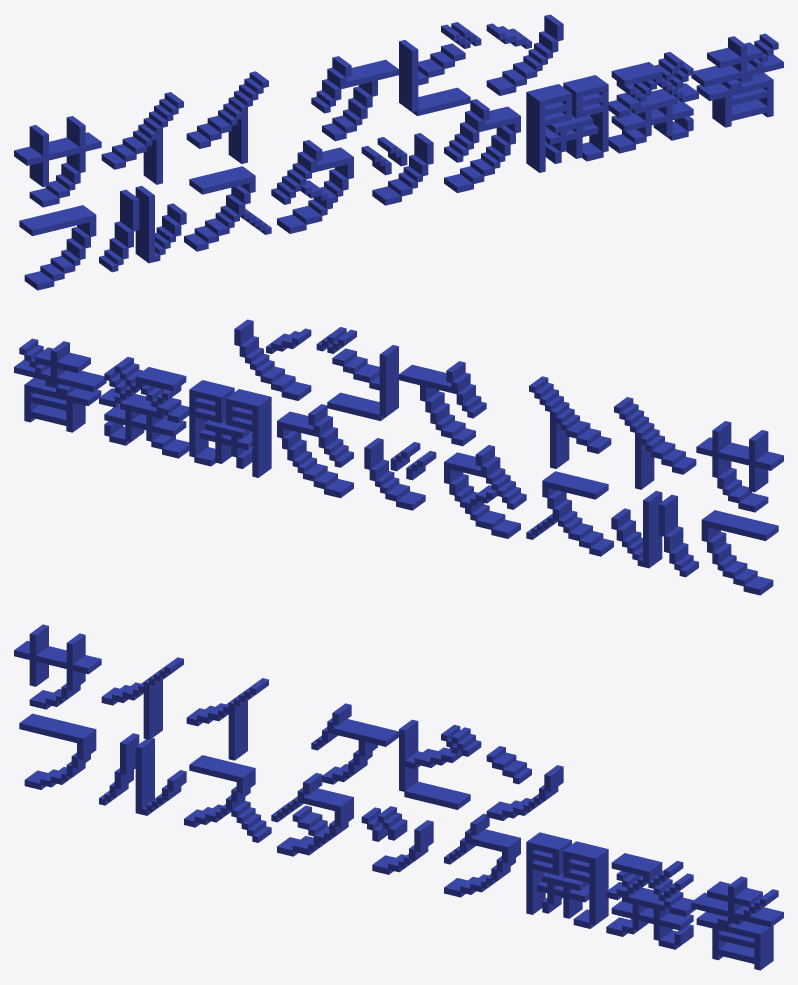
File: NameJP.gltf
The picture shows the model from 3 angles, top to bottom: view 1: azimuth 30°, elevation 25°; view 2: azimuth 150°, elevation 25°; view 3: azimuth 330°, elevation 25°; orthographic projection.
Parts seen in each view (by area): view 1: Text.002; view 2: Text.002; view 3: Text.002.
Boxes of the visible parts, x1,y1,x2,y2 form: Text.002: (14, 14, 783, 290); Text.002: (14, 319, 783, 595); Text.002: (14, 624, 783, 970).
Bounding box in the file's own units: 10 × 2 × 0.3.
